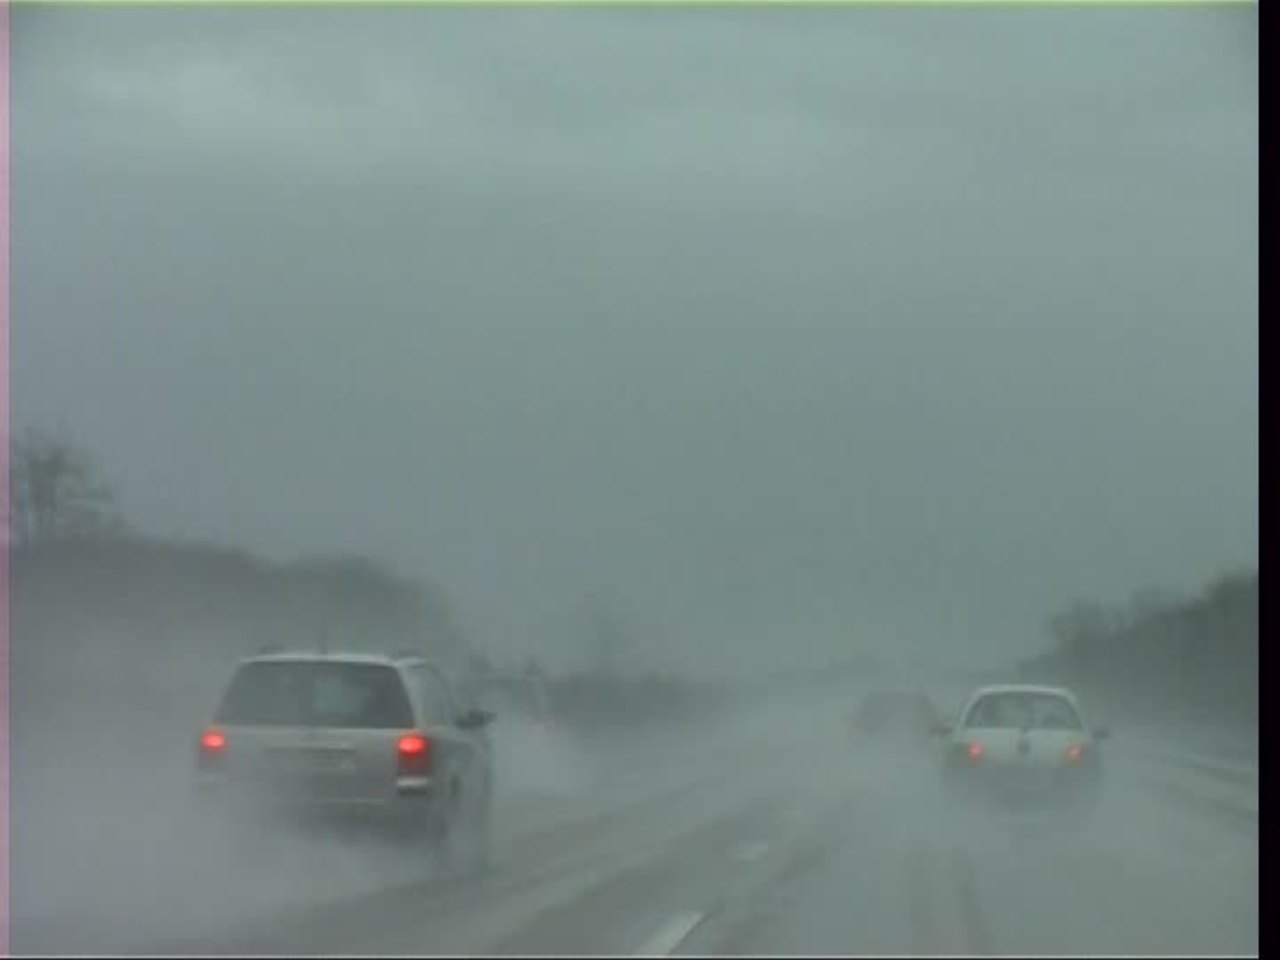car: (184, 652, 500, 856), (942, 684, 1101, 778), (840, 686, 950, 754)
